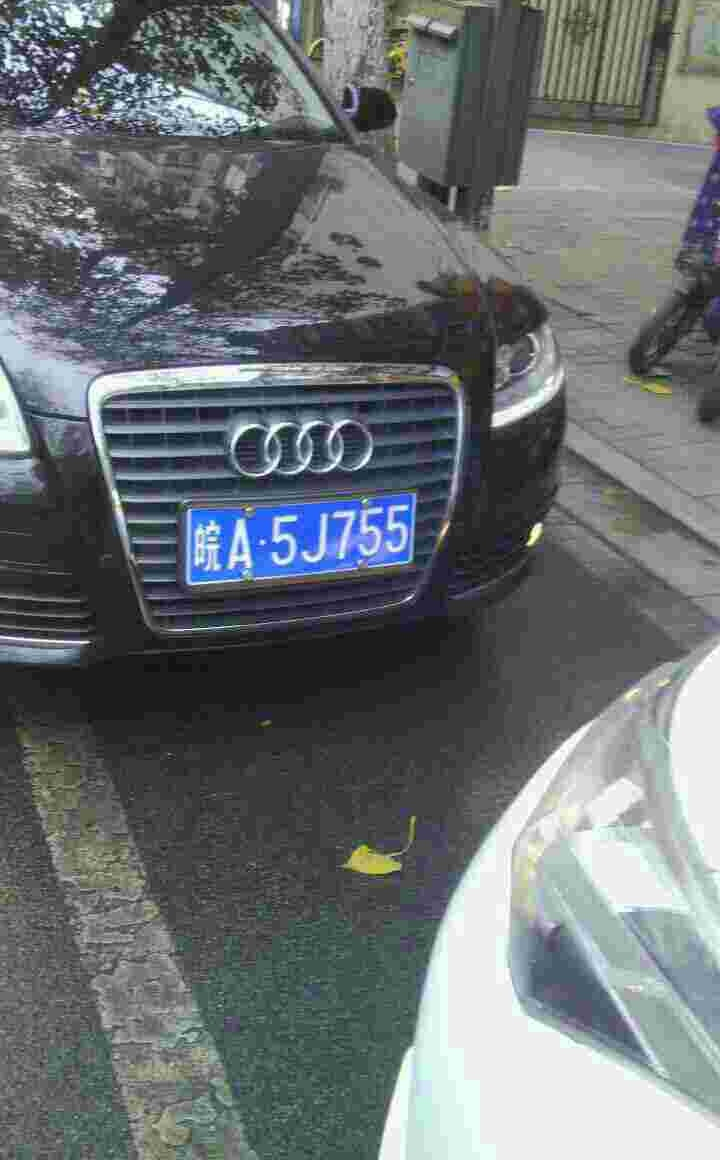car: (181, 507, 415, 576)
